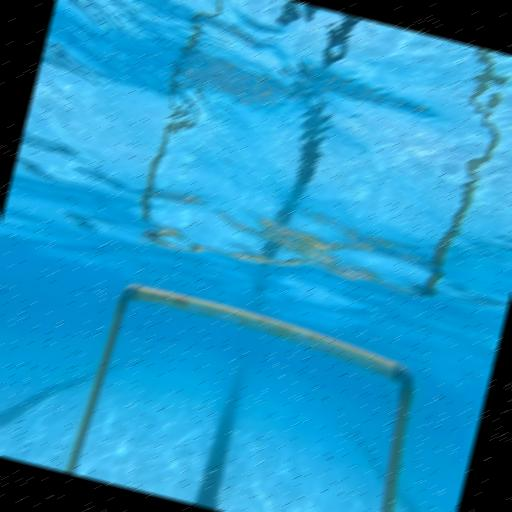gate: (64, 278, 436, 512)
